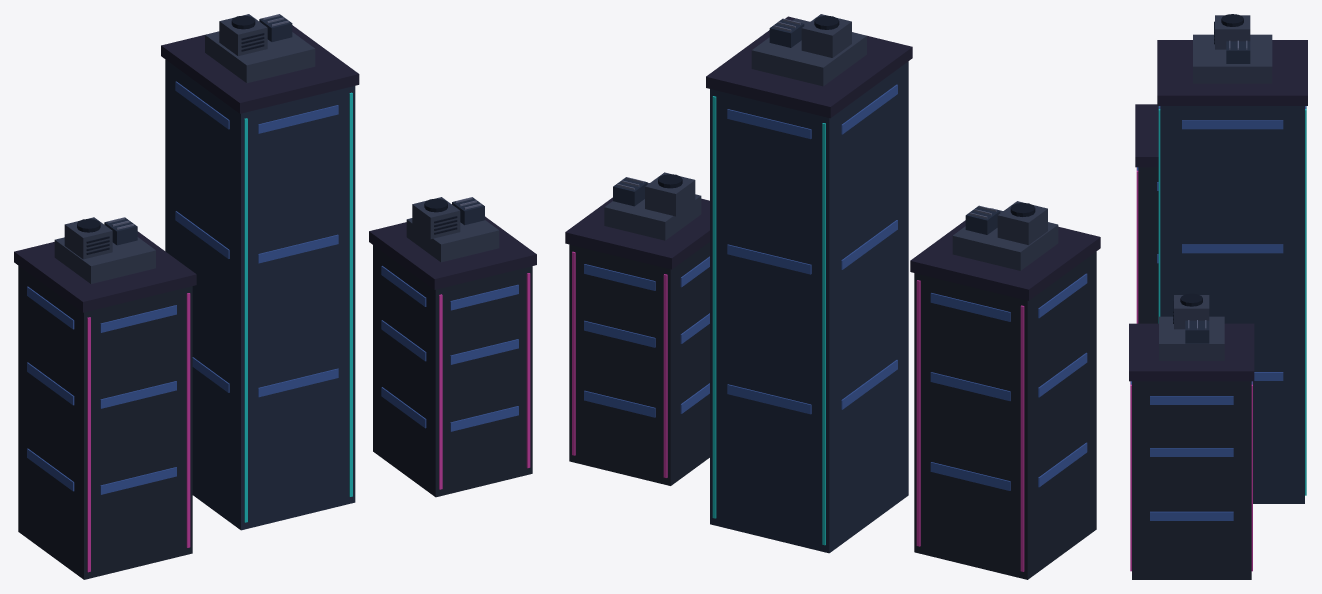
Rendered from Neon_SkylineBlock_Showcase.glb.
3 views of the same model, side by side, from view 1: azimuth 30°, elevation 25°; view 2: azimuth 150°, elevation 25°; view 3: azimuth 270°, elevation 25° (orthographic). The views are drawn at different scales.
Parts seen in each view (by area): view 1: Neon_SkylineBlock_Showcase; view 2: Neon_SkylineBlock_Showcase; view 3: Neon_SkylineBlock_Showcase.
Part boxes in pixels (bbox=[...]): Neon_SkylineBlock_Showcase: bbox=[14, 14, 536, 579]; Neon_SkylineBlock_Showcase: bbox=[565, 14, 1100, 579]; Neon_SkylineBlock_Showcase: bbox=[1129, 14, 1307, 579].
Bounding box in the file's own units: 15.78 × 15.81 × 5.68.
